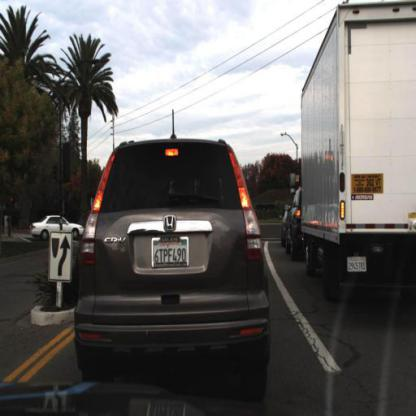car: (74, 129, 273, 392), (284, 184, 310, 256), (30, 214, 87, 243), (277, 196, 295, 249)
truck: (300, 5, 416, 303)
